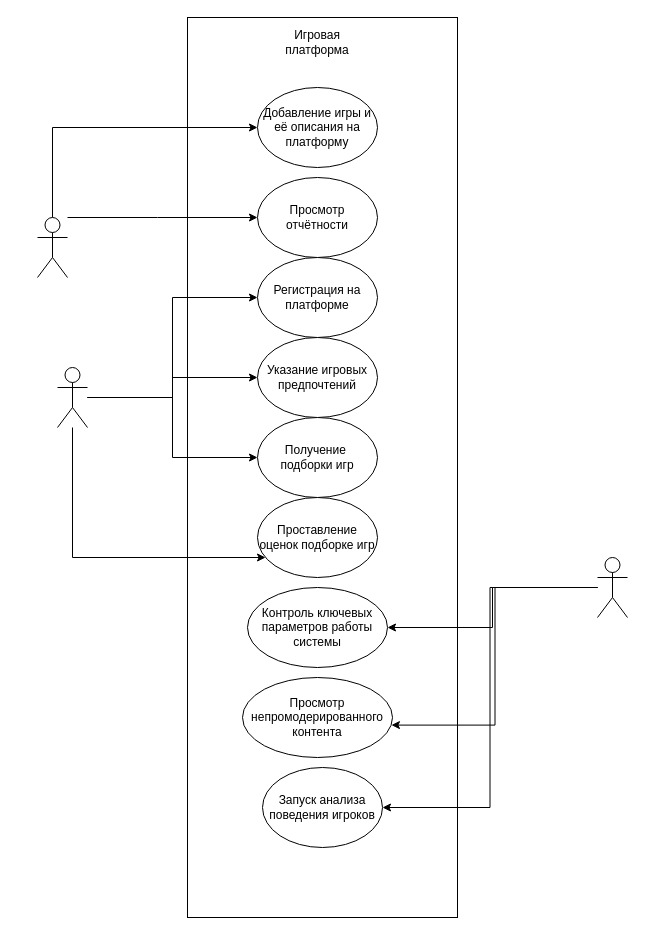
Some shapes in this 658 by 935 pixel diagram are drawn without their labels. Each missing label, with the centre of its shape:
"Менеджер" belongs at pixel 612 587.
"Пользователь" belongs at pixel 72 397.
"Разработчик" belongs at pixel 52 247.
